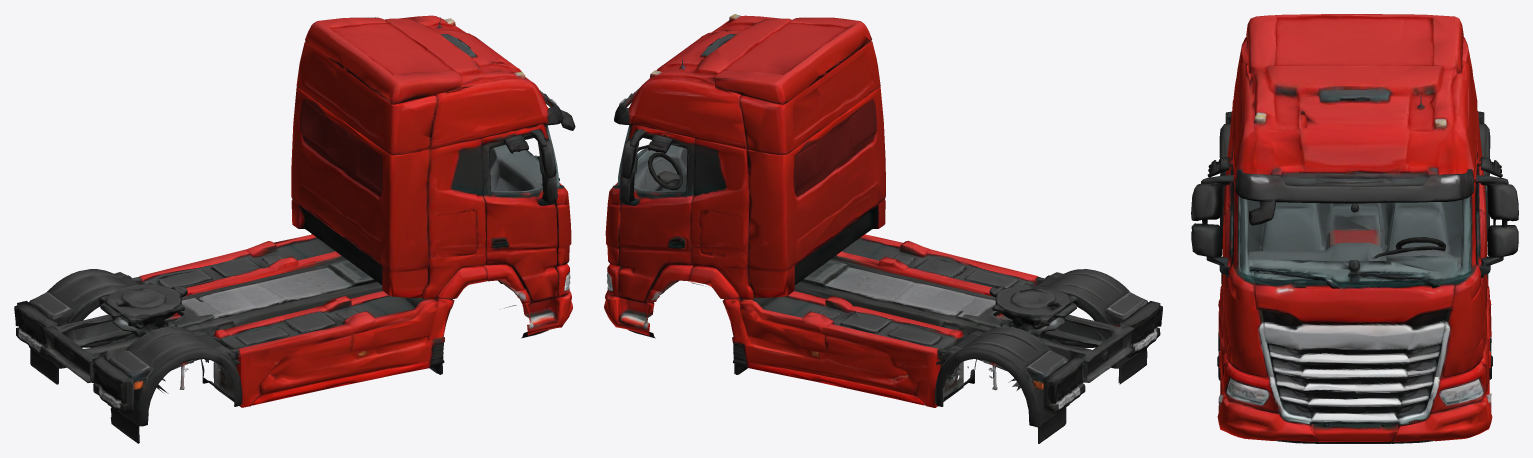
The model's file is exoil-tractor.ebd1ab11de.glb.
3 renders of one model, left to right at view 1: azimuth 30°, elevation 25°; view 2: azimuth 150°, elevation 25°; view 3: azimuth 270°, elevation 25°, orthographic. The views are drawn at different scales.
Visible parts, largest first — view 1: tripo_node_99441f40-5598-4848-9cef-b13cdcc14309; view 2: tripo_node_99441f40-5598-4848-9cef-b13cdcc14309; view 3: tripo_node_99441f40-5598-4848-9cef-b13cdcc14309.
Part boxes in pixels (box(x1,y1,x2,y2)): tripo_node_99441f40-5598-4848-9cef-b13cdcc14309: box(14, 15, 575, 443); tripo_node_99441f40-5598-4848-9cef-b13cdcc14309: box(604, 14, 1162, 443); tripo_node_99441f40-5598-4848-9cef-b13cdcc14309: box(1191, 14, 1518, 443).
Bounding box in the file's own units: 6.21 × 3.66 × 3.1.
1 material, 1 textured.
